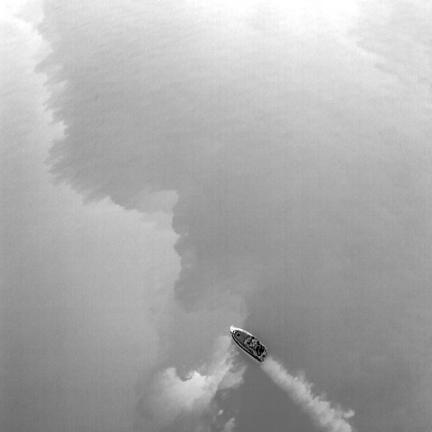flukeprints: (151, 368, 221, 423)
